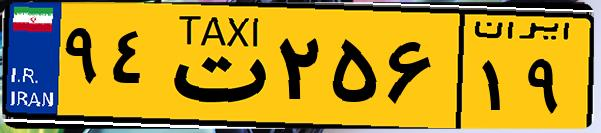1: (475, 38, 525, 113)
2: (270, 28, 330, 110)
4: (110, 28, 158, 98)
5: (330, 28, 385, 110)
6: (385, 28, 445, 110)
9: (57, 26, 110, 100), (525, 38, 570, 115)
ت: (158, 12, 270, 120)
